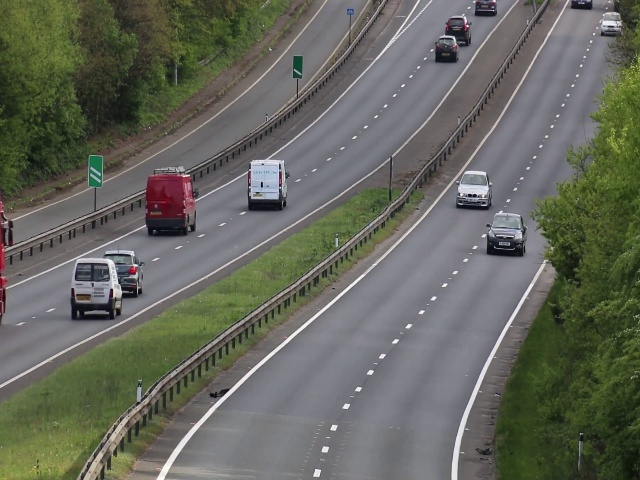car: (144, 172, 198, 235), (71, 259, 123, 323), (246, 157, 287, 208), (486, 212, 525, 257), (106, 249, 142, 295), (456, 168, 492, 207), (445, 15, 473, 45), (433, 34, 461, 63), (598, 13, 621, 36)
